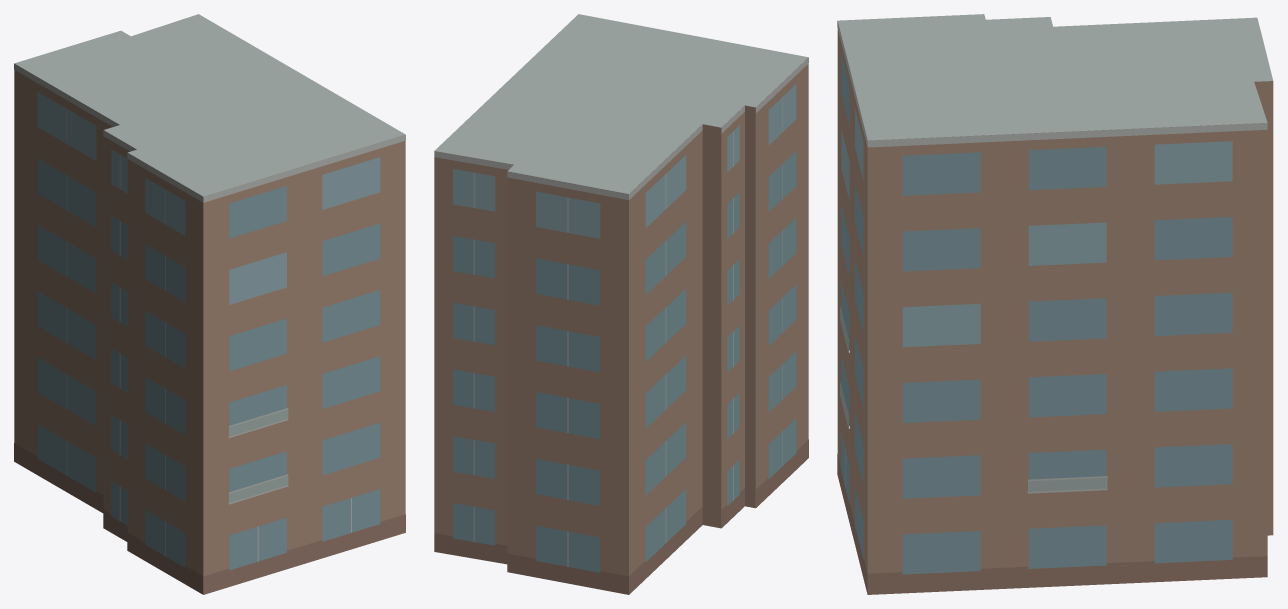
Rendered from survey-upis-32740245.glb.
3 renders of one model, left to right at view 1: azimuth 30°, elevation 25°; view 2: azimuth 150°, elevation 25°; view 3: azimuth 270°, elevation 25°, orthographic. The views are drawn at different scales.
Parts seen in each view (by area): view 1: survey-upis-32740245.tmp; view 2: survey-upis-32740245.tmp; view 3: survey-upis-32740245.tmp.
Boxes of the visible parts, <box> form: survey-upis-32740245.tmp: <box>14,14,405,594</box>; survey-upis-32740245.tmp: <box>434,14,808,594</box>; survey-upis-32740245.tmp: <box>837,14,1273,594</box>.
Size of the model in its own units: 9.51 by 15.9 by 13.83.
